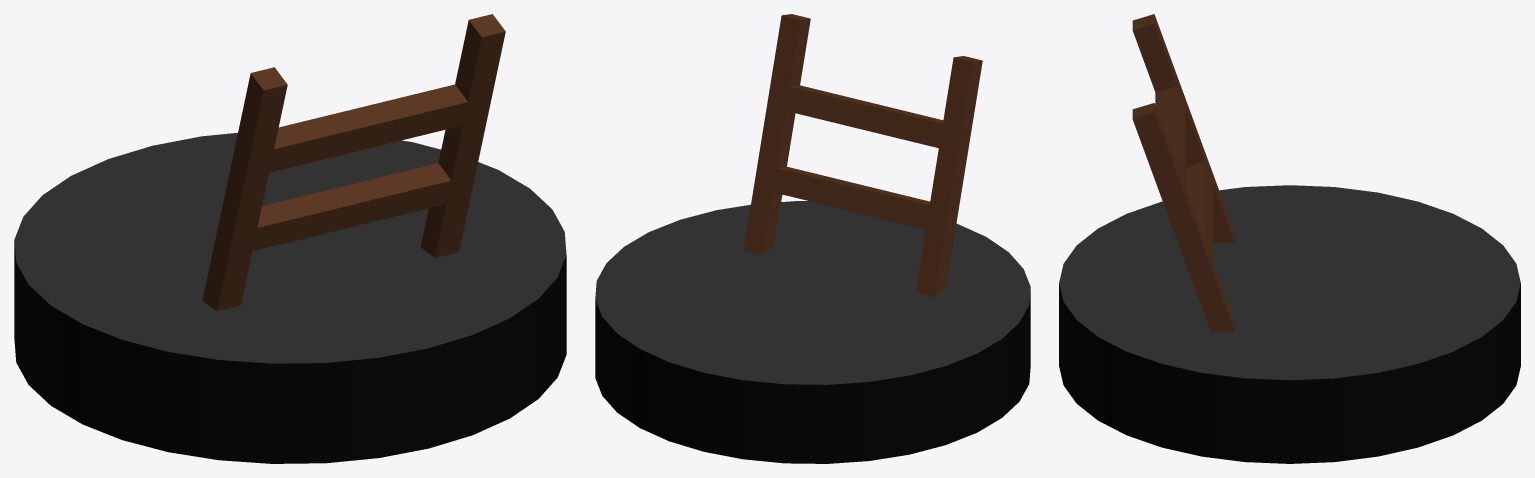
Rendered from Ladder.fbx.
3 renders of one model, left to right at view 1: azimuth 30°, elevation 25°; view 2: azimuth 150°, elevation 25°; view 3: azimuth 270°, elevation 25°, orthographic. The views are drawn at different scales.
Visible parts, largest first — view 1: DarkHole, Ladder; view 2: DarkHole, Ladder; view 3: DarkHole, Ladder.
Part boxes in pixels (bbox=[...]): DarkHole: bbox=[14, 132, 566, 463]; Ladder: bbox=[202, 14, 505, 311]; DarkHole: bbox=[595, 201, 1030, 463]; Ladder: bbox=[743, 14, 982, 296]; DarkHole: bbox=[1059, 185, 1520, 463]; Ladder: bbox=[1132, 14, 1234, 331].
Size of the model in its own units: 100 by 72.44 by 100.
